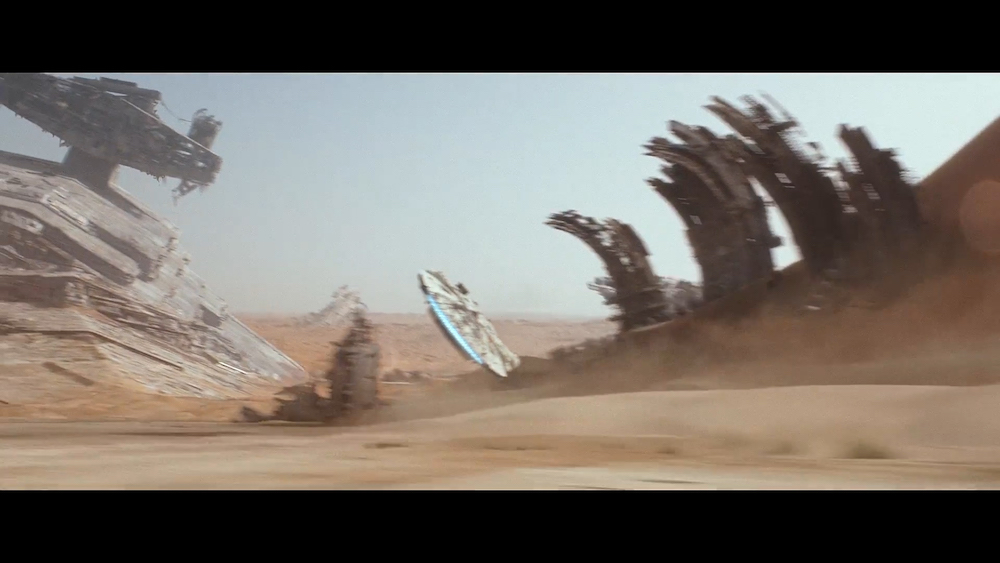Millennium Falcon: (413, 263, 522, 383)
